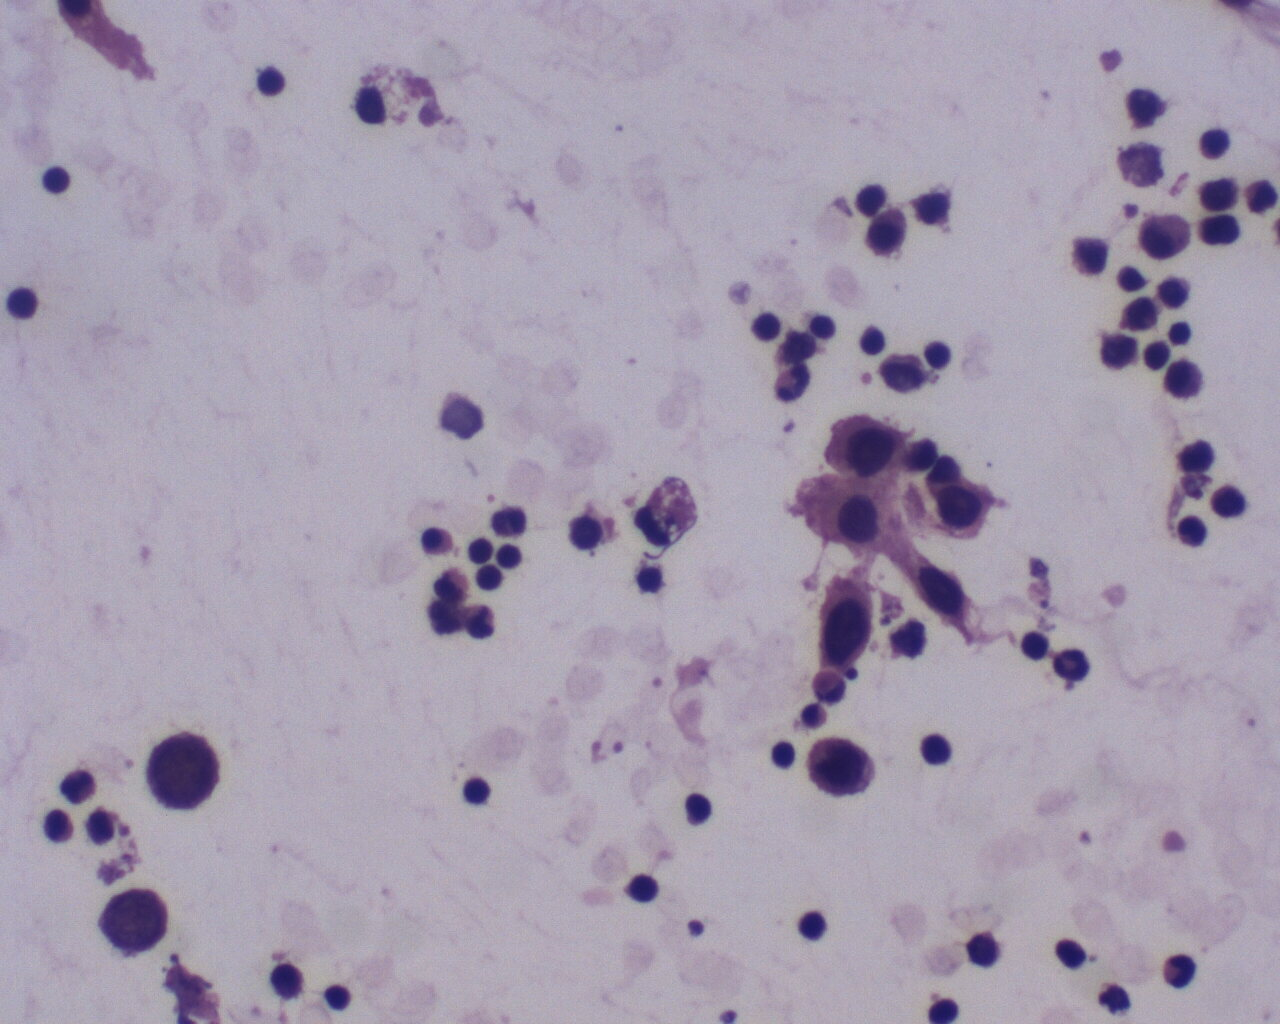ab: (148, 730, 227, 816), (811, 574, 878, 674), (90, 886, 173, 962), (796, 734, 878, 804), (908, 555, 974, 624), (929, 478, 997, 542)
lymph: (4, 281, 46, 329), (38, 159, 77, 204), (918, 732, 961, 771), (457, 771, 501, 808), (791, 906, 830, 947), (253, 59, 290, 100), (623, 869, 661, 906), (681, 791, 716, 829), (924, 338, 958, 371), (1141, 338, 1173, 373), (805, 311, 841, 343), (475, 561, 509, 594), (323, 983, 359, 1013)
neutro: (56, 761, 98, 810), (1160, 948, 1198, 993), (772, 360, 812, 401), (1053, 645, 1093, 683)
